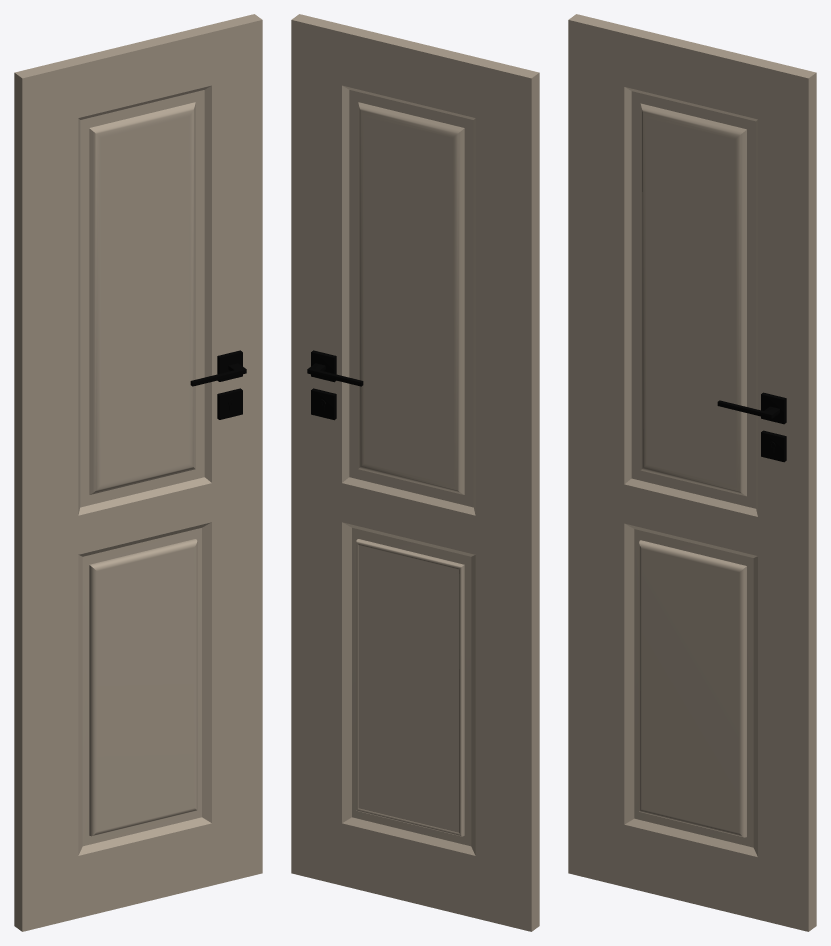
Rendered from RP_4_half_door.glb.
3 renders of one model, left to right at view 1: azimuth 30°, elevation 25°; view 2: azimuth 150°, elevation 25°; view 3: azimuth 330°, elevation 25°, orthographic.
Parts seen in each view (by area): view 1: RP_4__half_door_; view 2: RP_4__half_door_; view 3: RP_4__half_door_.
Boxes of the visible parts, x1=… form: RP_4__half_door_: x1=14, y1=14, x2=262, y2=931; RP_4__half_door_: x1=291, y1=14, x2=539, y2=931; RP_4__half_door_: x1=568, y1=14, x2=816, y2=931.
Size of the model in its own units: 0.5169 by 1.76 by 0.1089.
1 material, 1 textured.
